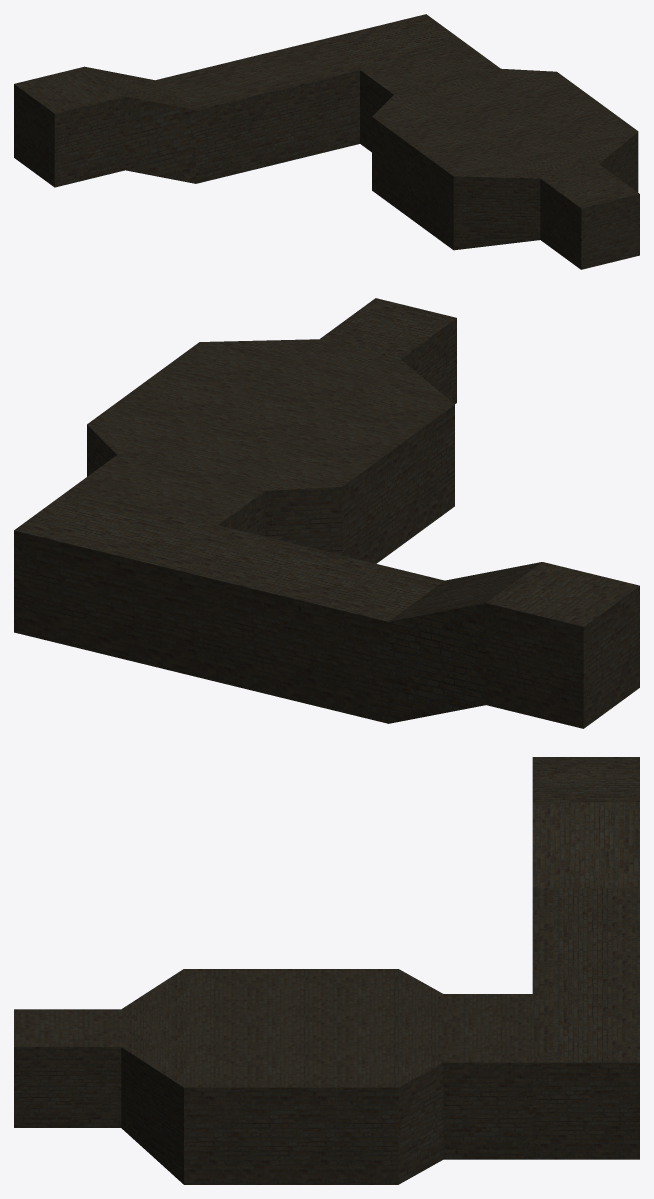
Rendered from Level.fbx.
3 views of the same model, one above another, from view 1: azimuth 30°, elevation 25°; view 2: azimuth 150°, elevation 25°; view 3: azimuth 270°, elevation 25° (orthographic). The views are drawn at different scales.
Visible parts, largest first — view 1: polySurface1; view 2: polySurface1; view 3: polySurface1.
Boxes of the visible parts, <box> form: polySurface1: <box>14,14,639,269</box>; polySurface1: <box>14,298,639,728</box>; polySurface1: <box>14,757,639,1184</box>.
Size of the model in its own units: 38.35 by 8.5 by 35.
Materials: 2 (2 with a texture image).
